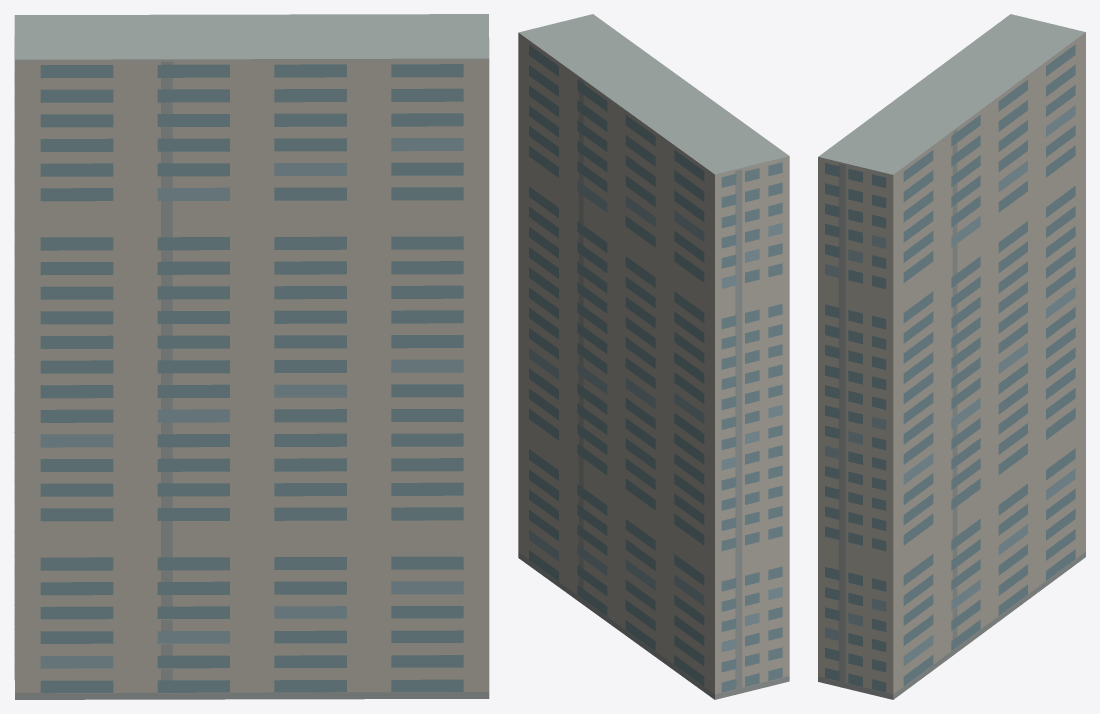
File: residential-ecbf7bca-1b8c-4ebd-b849-77c0719dfc26.glb
3 renders of one model, left to right at view 1: azimuth 30°, elevation 25°; view 2: azimuth 150°, elevation 25°; view 3: azimuth 270°, elevation 25°, orthographic. The views are drawn at different scales.
Parts seen in each view (by area): view 1: residential-ecbf7bca-1b8c-4ebd-b849-77c0719dfc26.tmp; view 2: residential-ecbf7bca-1b8c-4ebd-b849-77c0719dfc26.tmp; view 3: residential-ecbf7bca-1b8c-4ebd-b849-77c0719dfc26.tmp.
Part boxes in pixels (left/top/right/bottom): residential-ecbf7bca-1b8c-4ebd-b849-77c0719dfc26.tmp: left=14, top=14, right=489, bottom=699; residential-ecbf7bca-1b8c-4ebd-b849-77c0719dfc26.tmp: left=518, top=14, right=789, bottom=699; residential-ecbf7bca-1b8c-4ebd-b849-77c0719dfc26.tmp: left=818, top=14, right=1085, bottom=699.
Bounding box in the file's own units: 47.33 × 72 × 33.28.
